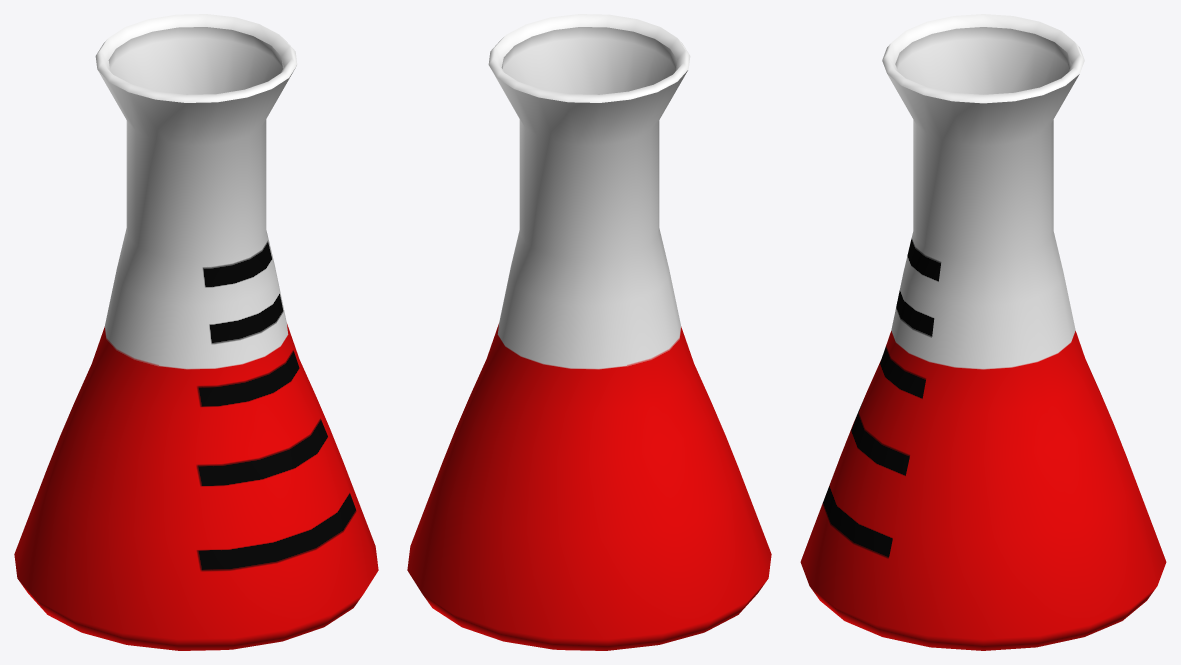
Rendered from flask.fbx.
3 views of the same model, side by side, from view 1: azimuth 30°, elevation 25°; view 2: azimuth 150°, elevation 25°; view 3: azimuth 270°, elevation 25° (orthographic).
Visible parts, largest first — view 1: pasted__pasted__polySurface2; view 2: pasted__pasted__polySurface2; view 3: pasted__pasted__polySurface2.
Part boxes in pixels (left/top/right/bottom): pasted__pasted__polySurface2: left=14, top=14, right=378, bottom=650; pasted__pasted__polySurface2: left=407, top=14, right=771, bottom=650; pasted__pasted__polySurface2: left=800, top=14, right=1166, bottom=650.
Size of the model in its own units: 0.6026 by 0.9845 by 0.6026.
1 material, 1 textured.
